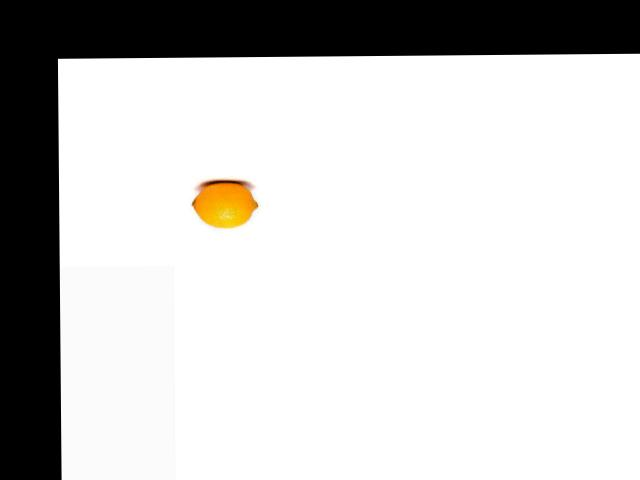lemon: (191, 174, 263, 230)
